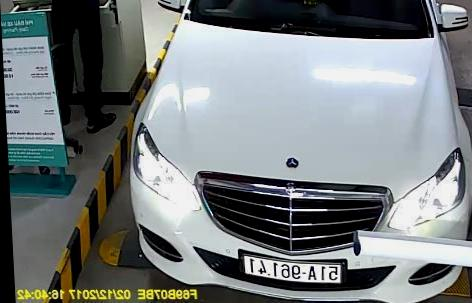License_Plate: (231, 250, 357, 284)
